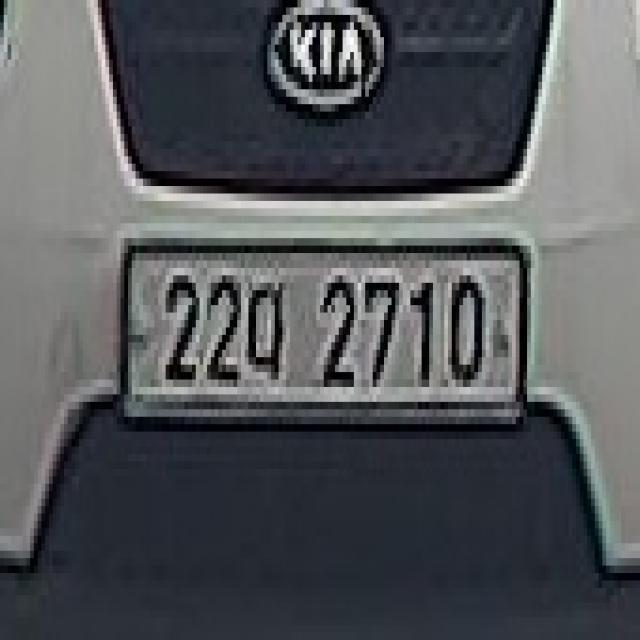0: (448, 265, 491, 396)
1: (410, 266, 440, 396)
2: (316, 269, 360, 396), (159, 266, 201, 386), (207, 264, 243, 391)
7: (364, 266, 404, 396)
da: (246, 267, 291, 390)
license_plate: (128, 246, 522, 414)
